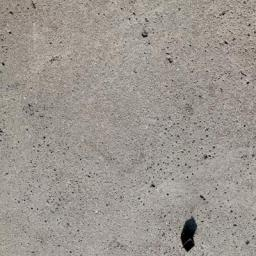FOD: (179, 218, 200, 254)
